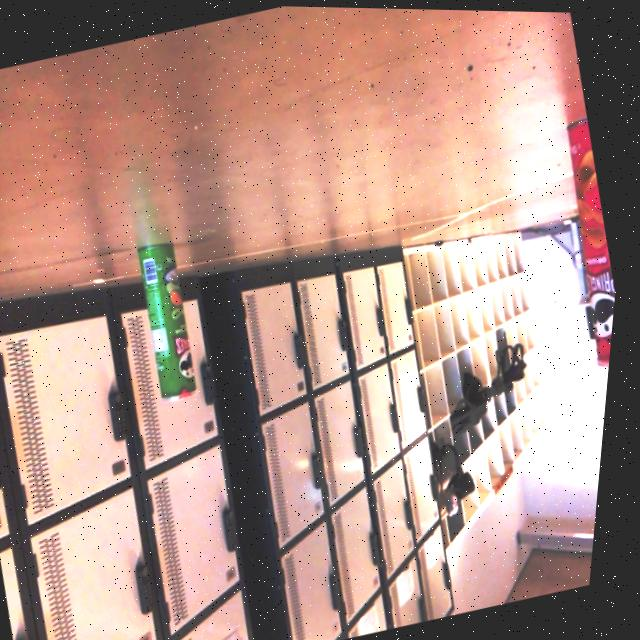greenpringles: (125, 232, 224, 416)
redpringles: (536, 106, 633, 386)
